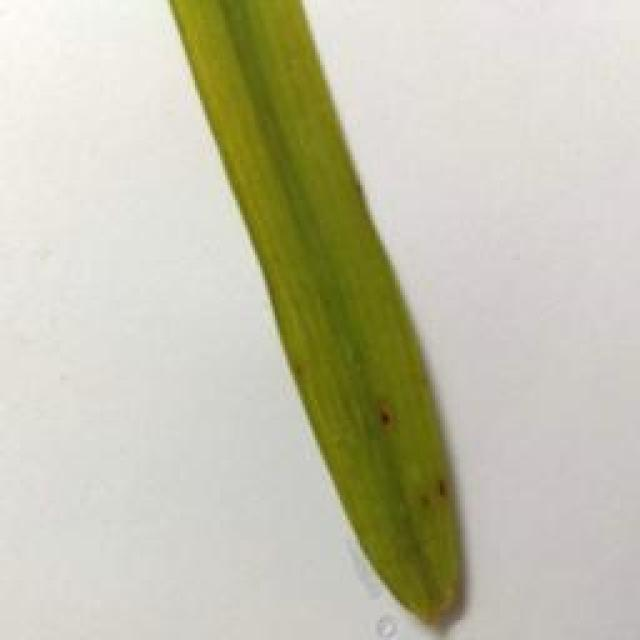Brown_Spot: (370, 394, 400, 440), (429, 470, 463, 504)
